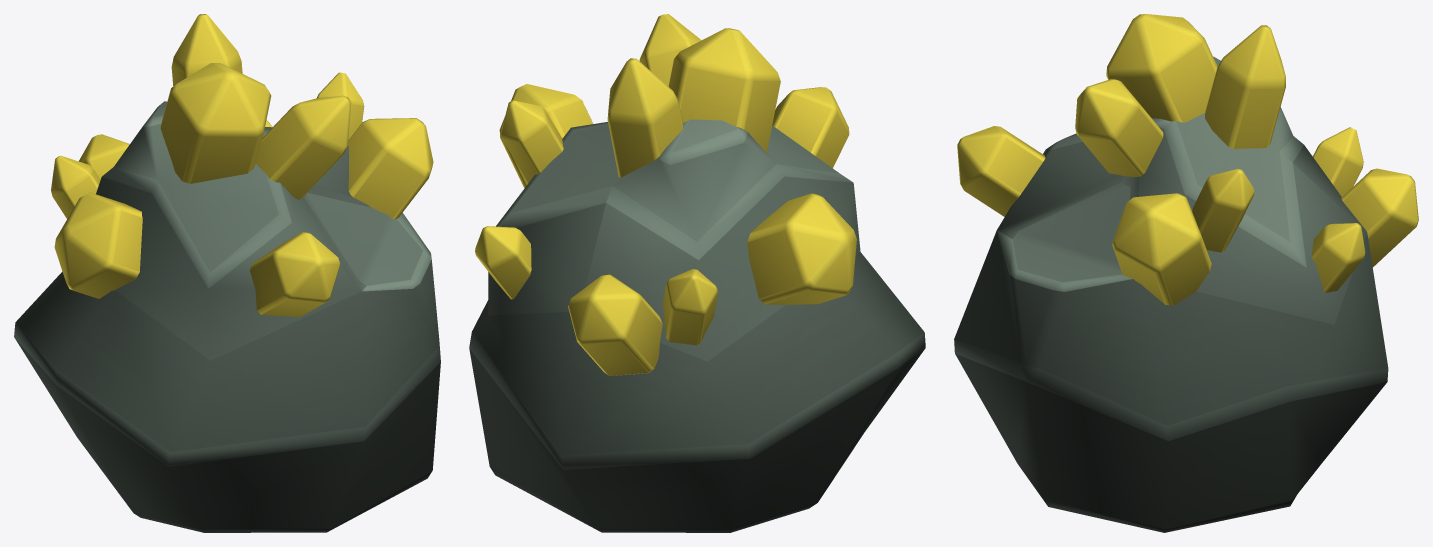
Rendered from ore_christal_topaz_L.fbx.
3 views of the same model, side by side, from view 1: azimuth 30°, elevation 25°; view 2: azimuth 150°, elevation 25°; view 3: azimuth 270°, elevation 25° (orthographic). The views are drawn at different scales.
Visible parts, largest first — view 1: ore_christal_topaz_L; view 2: ore_christal_topaz_L; view 3: ore_christal_topaz_L.
Boxes of the visible parts, bbox=[...] form: ore_christal_topaz_L: bbox=[14, 14, 440, 532]; ore_christal_topaz_L: bbox=[469, 14, 925, 532]; ore_christal_topaz_L: bbox=[954, 14, 1418, 532].
Bounding box in the file's own units: 211 × 252 × 218.
1 material, 1 textured.
